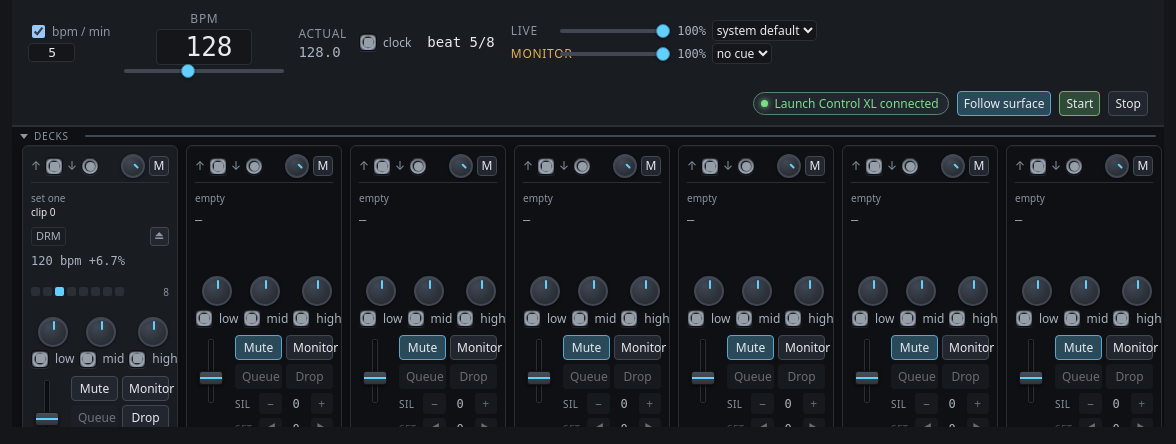
DecksView › the BPM label runs a deck at a ratio of the bank grid
The image size is (1176, 444).
What coordinates should you click on to do the following:
click the button with test id "decks-bpm-0"
I would click on:
 (56, 261)
Its box is [31,254,82,268].
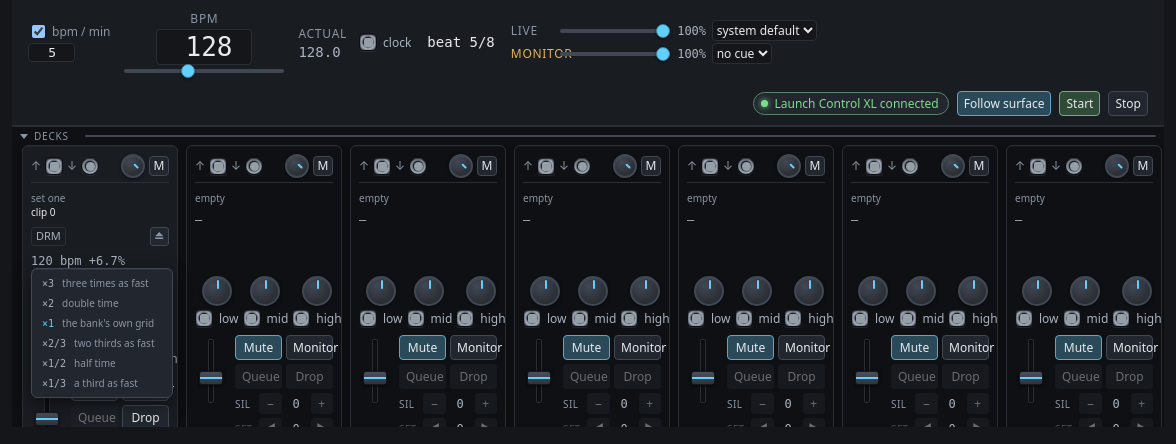
What coordinates should you click on to do the following:
click the menu item with test id "decks-ratio-0-2"
I would click on:
 (102, 303)
Its box is [36,293,168,313].
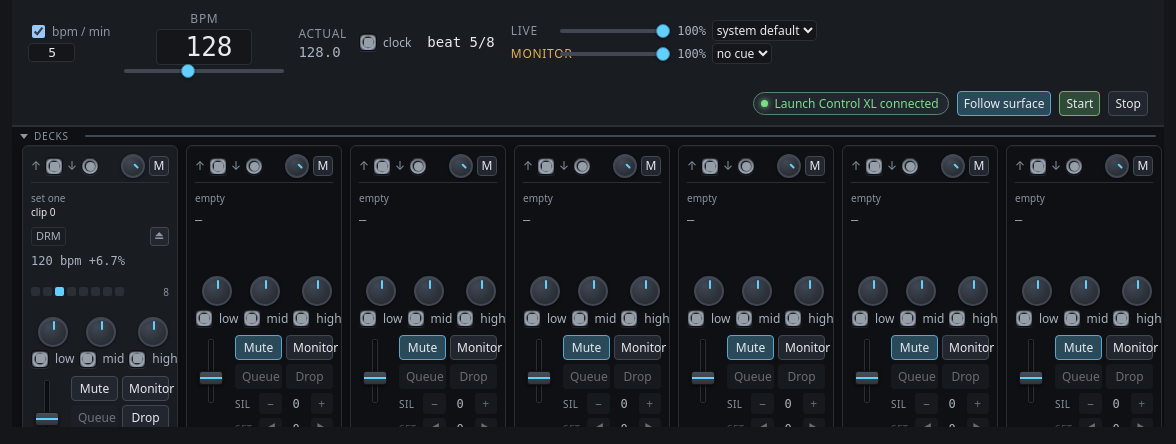
Expected: the menu with test id "decks-ratio-menu-0" is gone
